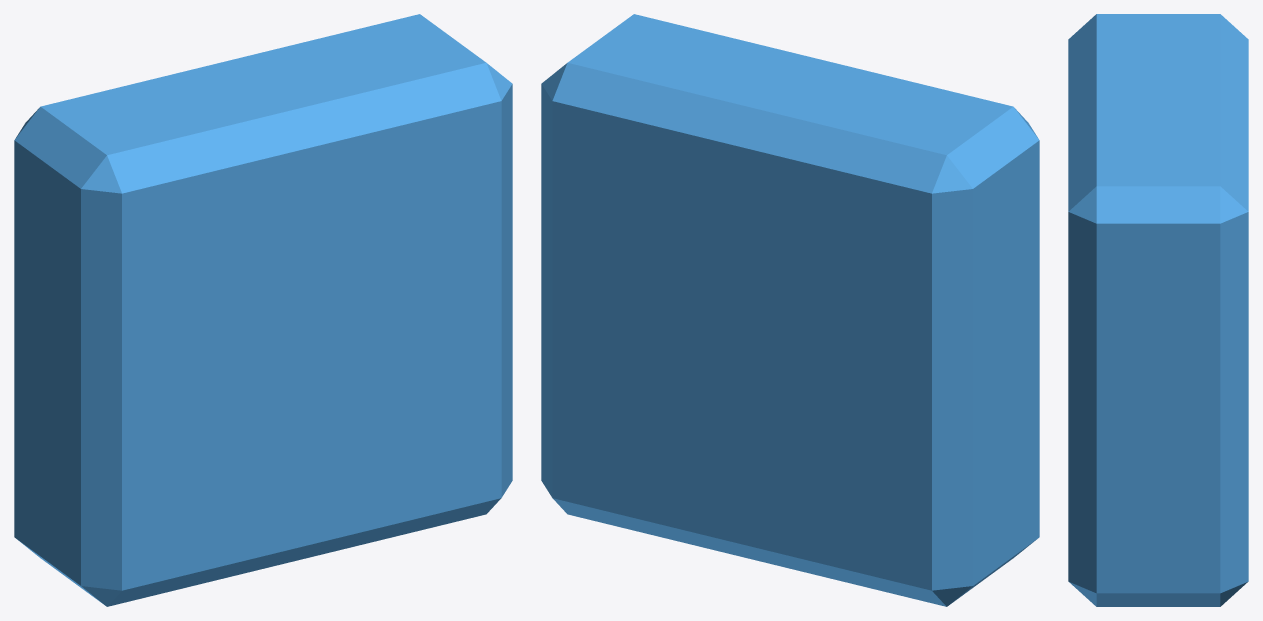
The model's file is right_shin__ankle_cuff_trim__base.glb.
The picture shows the model from 3 angles, left to right: view 1: azimuth 30°, elevation 25°; view 2: azimuth 150°, elevation 25°; view 3: azimuth 270°, elevation 25°; orthographic projection. The views are drawn at different scales.
Parts seen in each view (by area): view 1: armor_right_shin__ankle_cuff_trim__base_v001; view 2: armor_right_shin__ankle_cuff_trim__base_v001; view 3: armor_right_shin__ankle_cuff_trim__base_v001.
Boxes of the visible parts, x1,y1,x2,y2 form: armor_right_shin__ankle_cuff_trim__base_v001: (14, 14, 512, 606); armor_right_shin__ankle_cuff_trim__base_v001: (541, 14, 1039, 606); armor_right_shin__ankle_cuff_trim__base_v001: (1068, 14, 1248, 606).
Size of the model in its own units: 0.0496 by 0.0496 by 0.0192.
